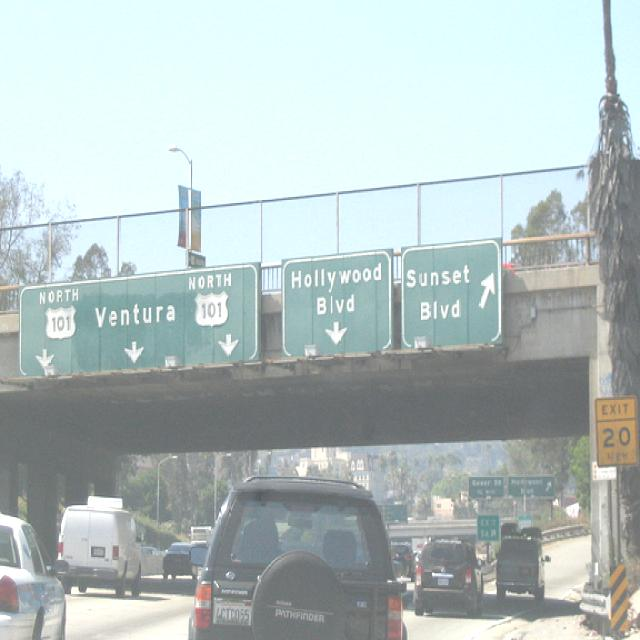Vehicle: (189, 482, 405, 640), (0, 494, 71, 640), (57, 504, 145, 592), (412, 539, 484, 620), (496, 536, 552, 604), (162, 542, 198, 580), (390, 542, 418, 584), (190, 526, 212, 550)
